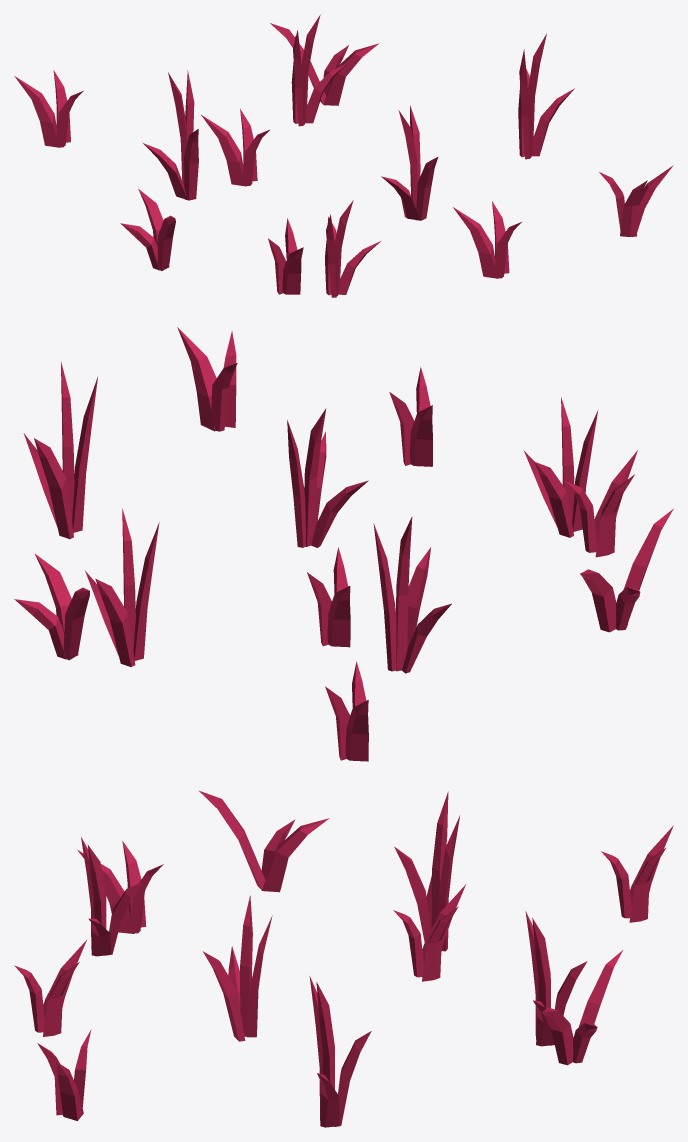
The model's file is grass.fbx.
3 renders of one model, top to bottom at view 1: azimuth 30°, elevation 25°; view 2: azimuth 150°, elevation 25°; view 3: azimuth 270°, elevation 25°, orthographic. The views are drawn at different scales.
Parts seen in each view (by area): view 1: SM_Env_Grass_Tuft_04; view 2: SM_Env_Grass_Tuft_04; view 3: SM_Env_Grass_Tuft_04.
Part boxes in pixels (box(x1,y1,x2,y2)): SM_Env_Grass_Tuft_04: box(14, 14, 673, 297); SM_Env_Grass_Tuft_04: box(14, 327, 673, 761); SM_Env_Grass_Tuft_04: box(14, 790, 673, 1127).
Bounding box in the file's own units: 289 × 74.89 × 296.
